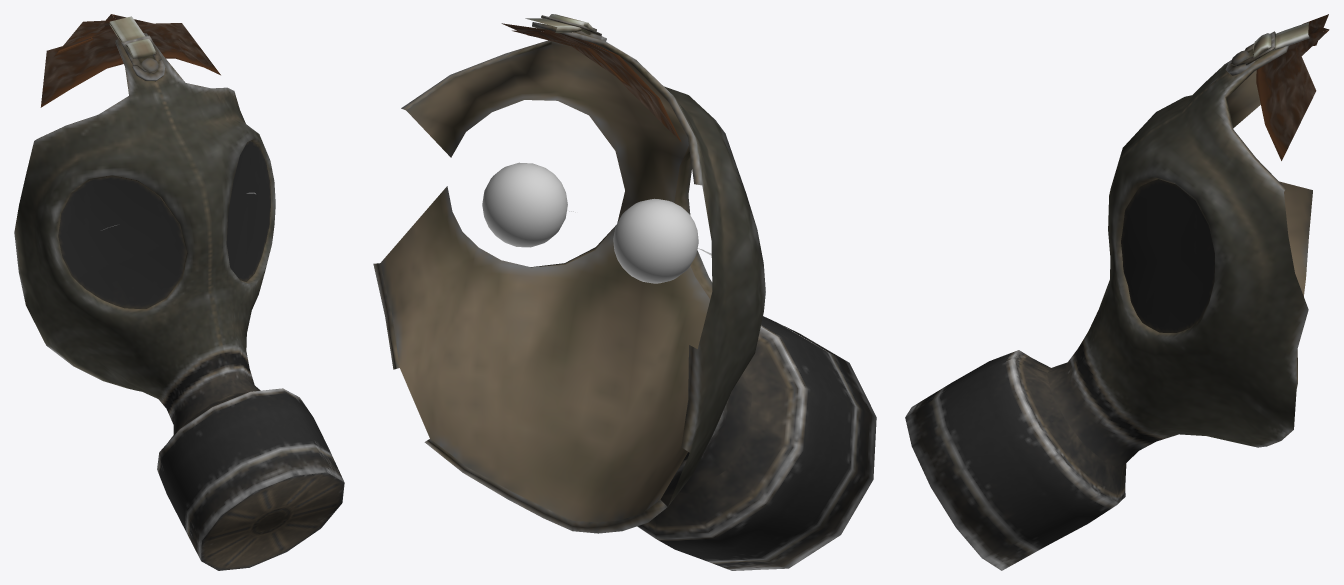
The model's file is MASKOFF.gltf.
3 views of the same model, side by side, from view 1: azimuth 30°, elevation 25°; view 2: azimuth 150°, elevation 25°; view 3: azimuth 270°, elevation 25° (orthographic). The views are drawn at different scales.
Visible parts, largest first — view 1: Fish_w_Mask; view 2: Fish_w_Mask; view 3: Fish_w_Mask.
Boxes of the visible parts, x1=… form: Fish_w_Mask: x1=14, y1=14, x2=344, y2=570; Fish_w_Mask: x1=373, y1=14, x2=876, y2=570; Fish_w_Mask: x1=905, y1=14, x2=1329, y2=570.
Bounding box in the file's own units: 0.4314 × 0.8221 × 0.5921.
